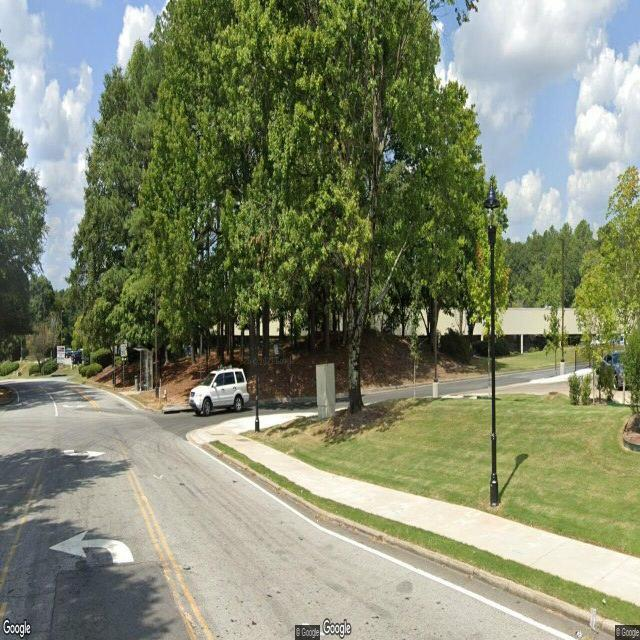seating: (144, 384, 150, 392)
shelter: (132, 347, 154, 392)
trash_can: (134, 376, 140, 392), (112, 372, 116, 384)
